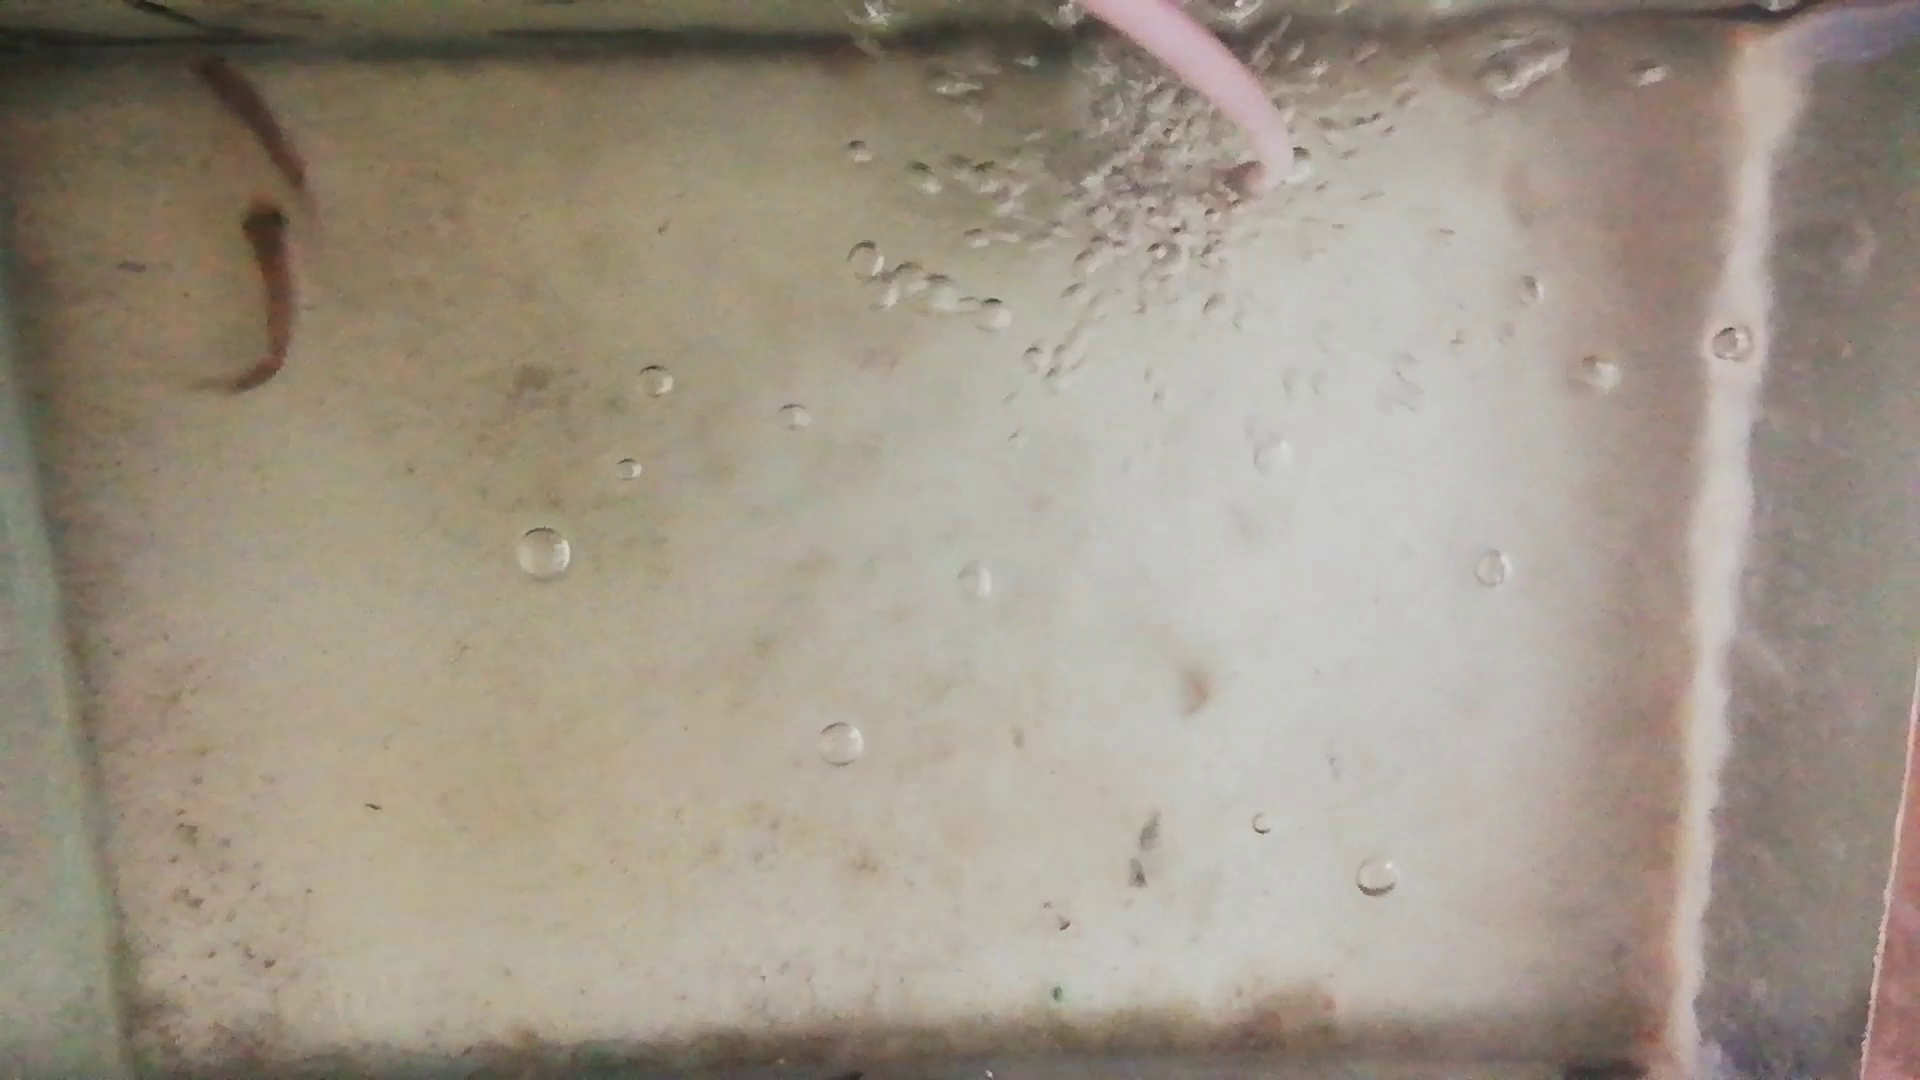fish: (186, 46, 309, 194), (222, 195, 295, 401)
